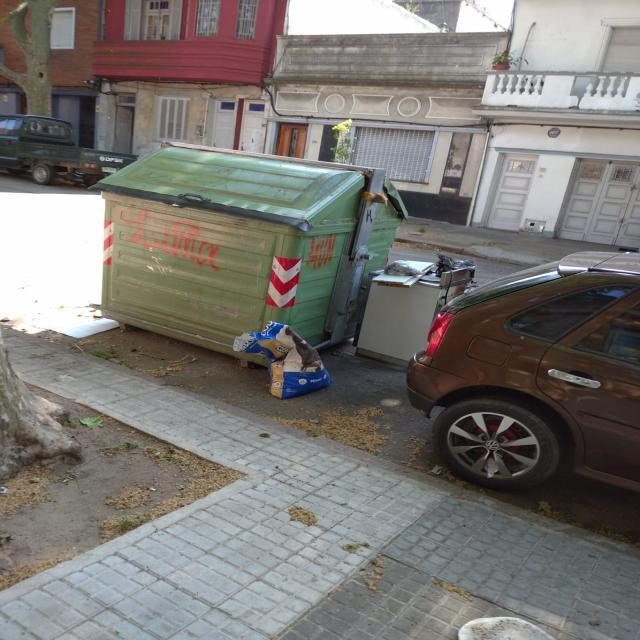garbage: (200, 297, 342, 427), (364, 243, 456, 365)
